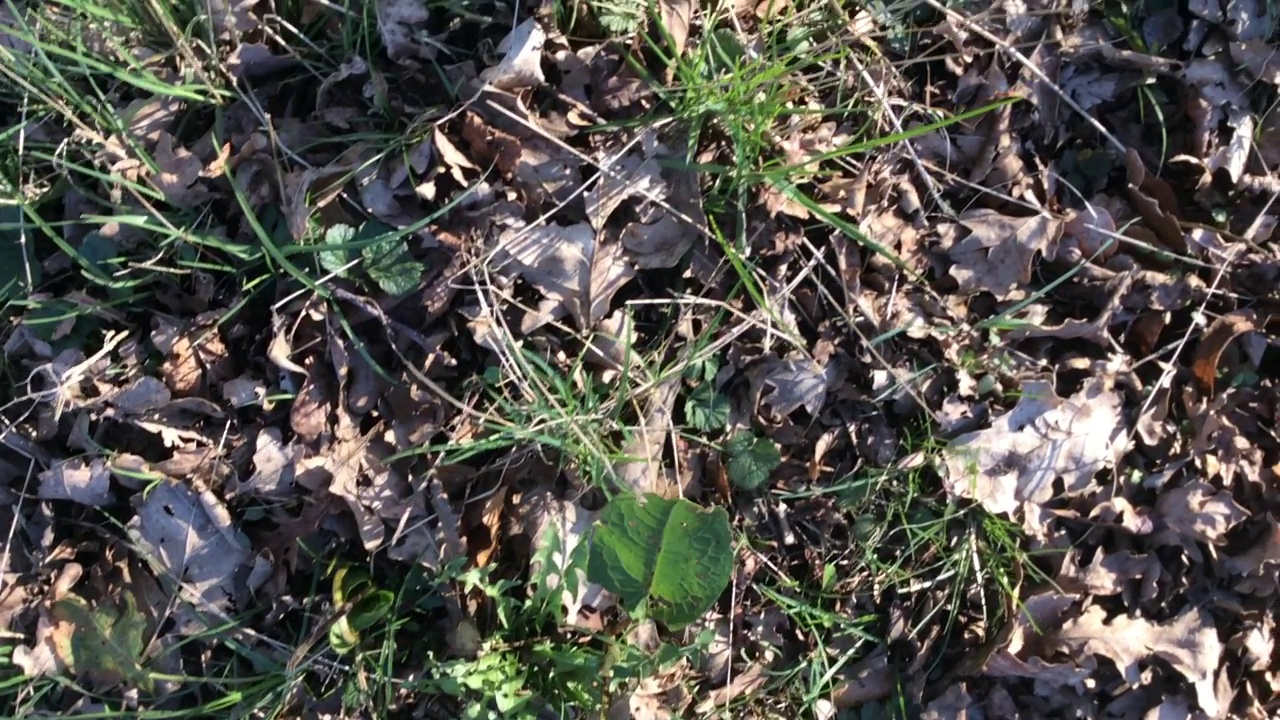rumex: (595, 495, 734, 649)
